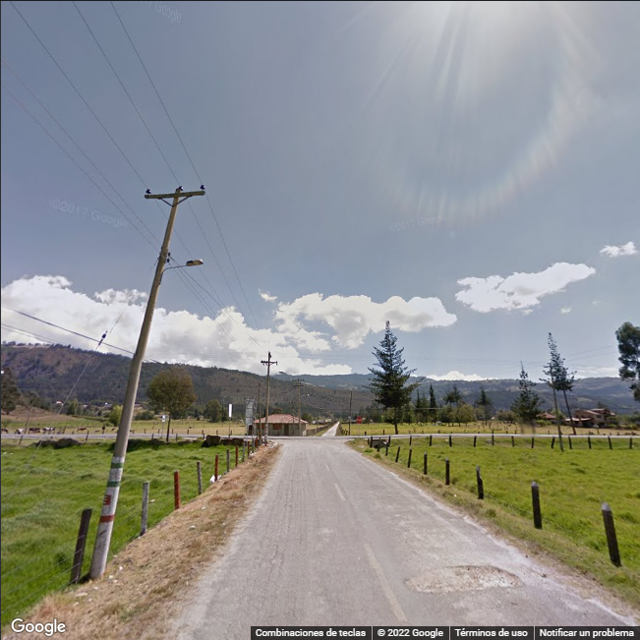D00: (266, 547, 282, 618)
D40: (415, 559, 524, 600)
